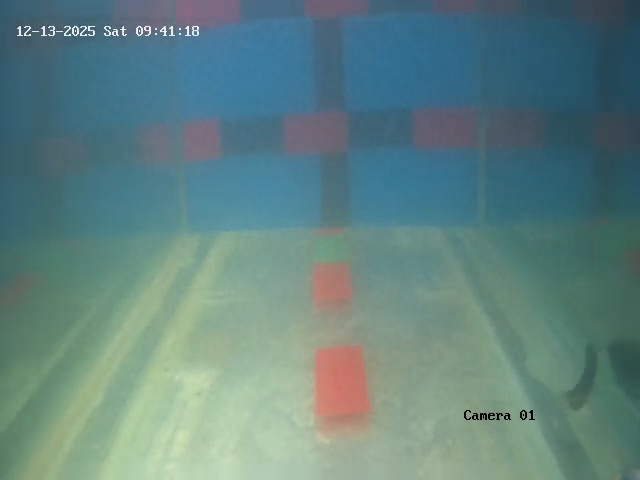fish: (561, 336, 604, 408)
